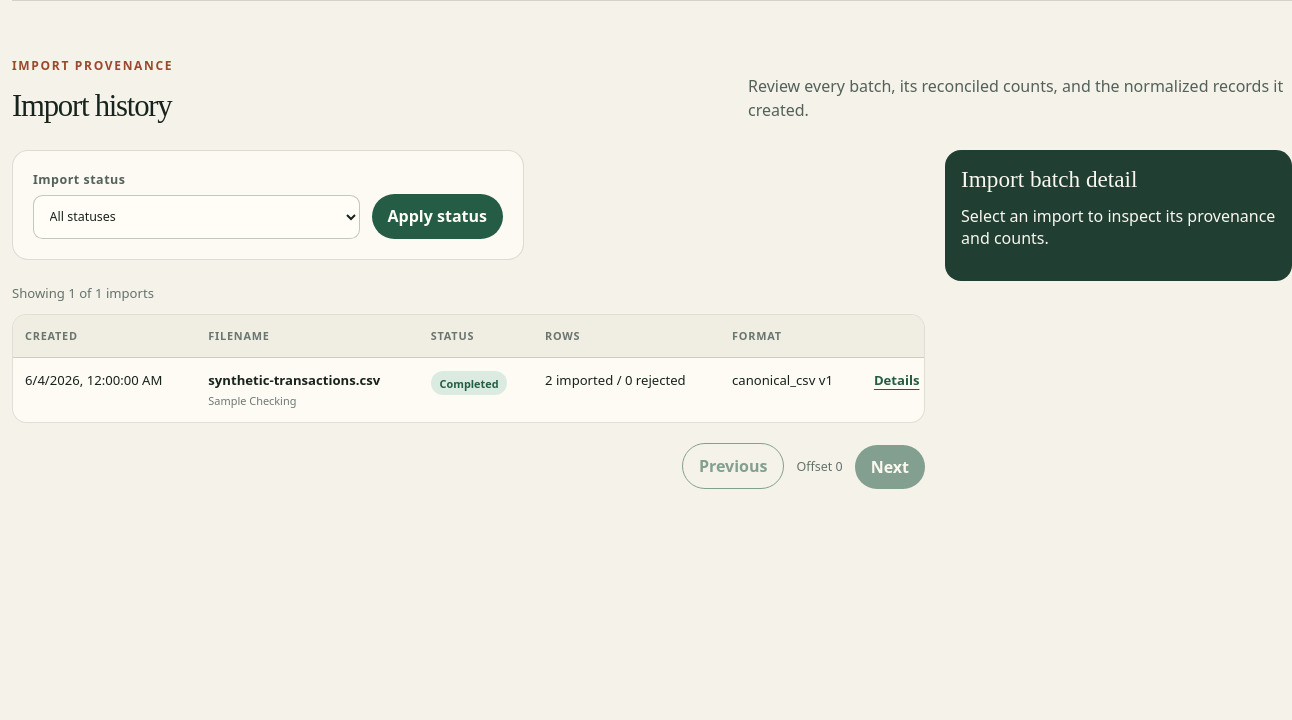
ImportHistoryView › confirms deletion, removes detail state, and refreshes history
Expected: the text "synthetic-transactions.csv" is shown, [208,372,407,390]
Click the button "Details".
click(897, 380)  # box [874,372,920,390]
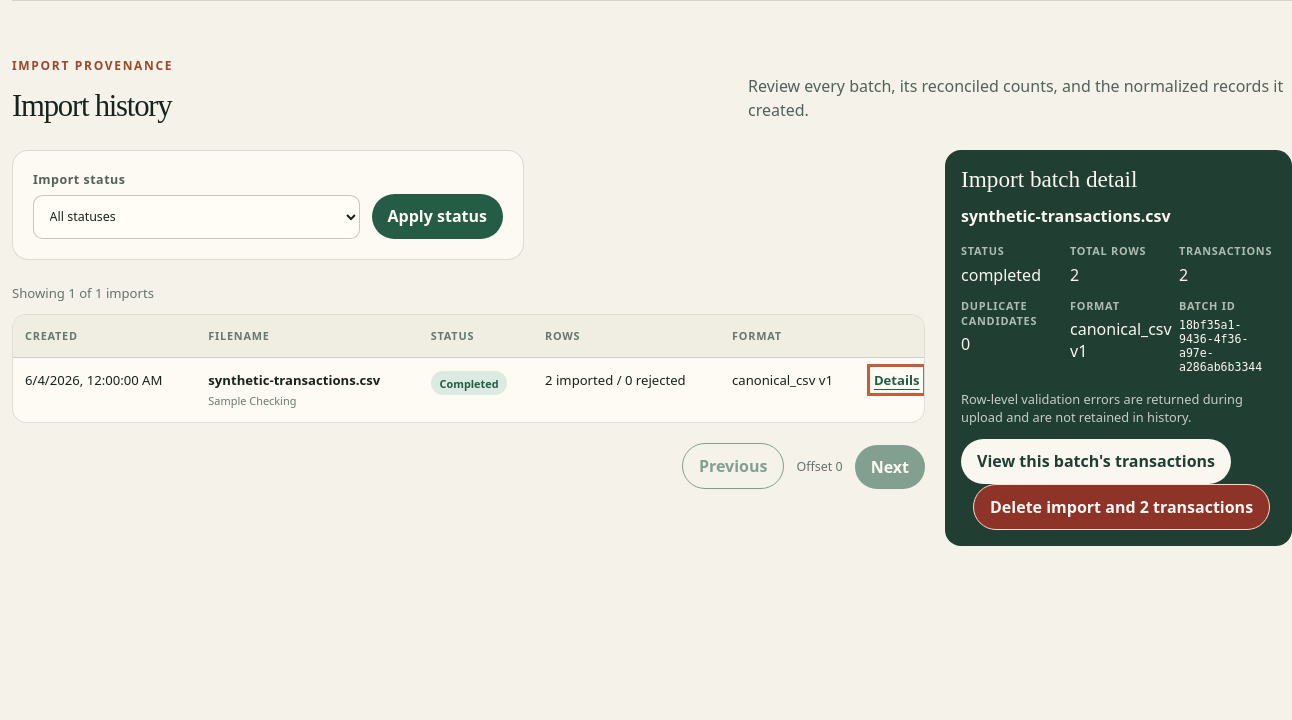
Click the button "Delete import and 2 transactions".
click(1122, 507)  # box [973,484,1270,530]
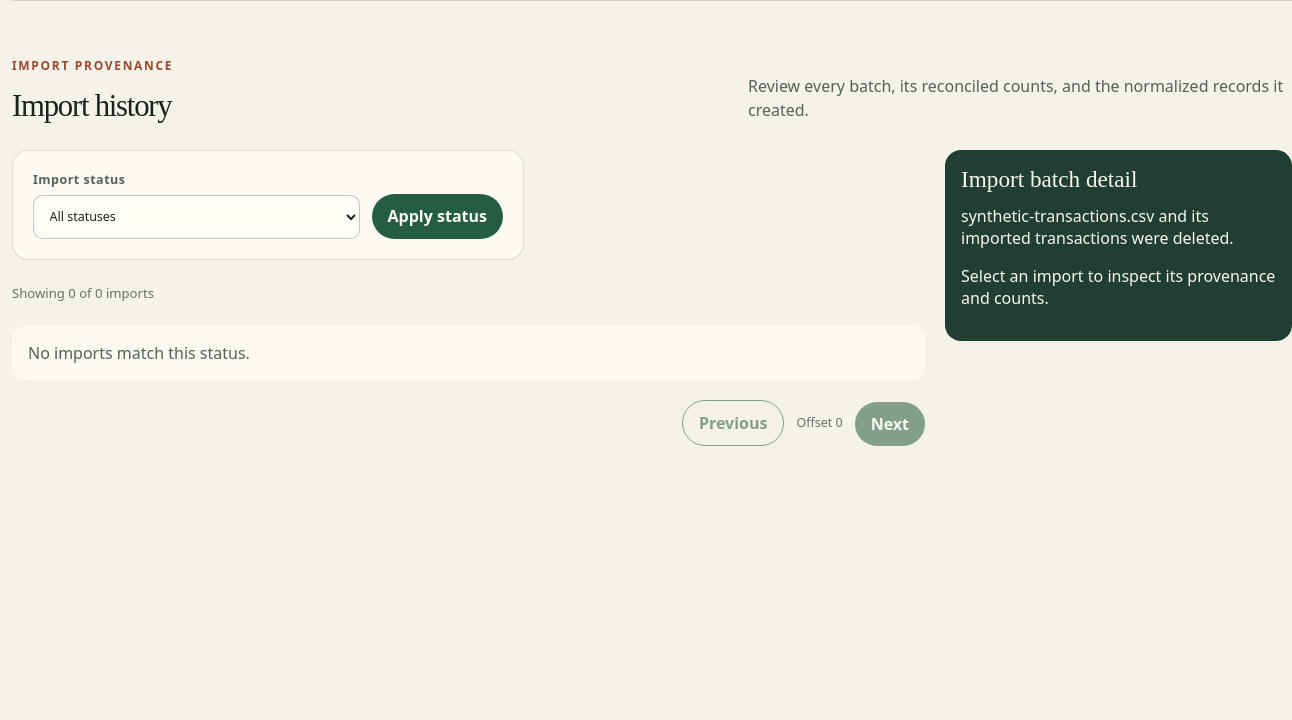
Expected: the message reads "synthetic-transactions.csv and its imported transactions were deleted.", [961,205,1234,249]
